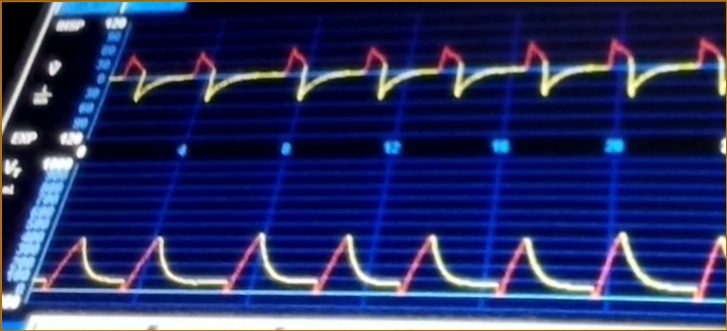Flow: (126, 16, 727, 124)
Leakage Volume: (36, 228, 727, 309)
